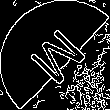M_SE: (20, 21, 90, 89)
